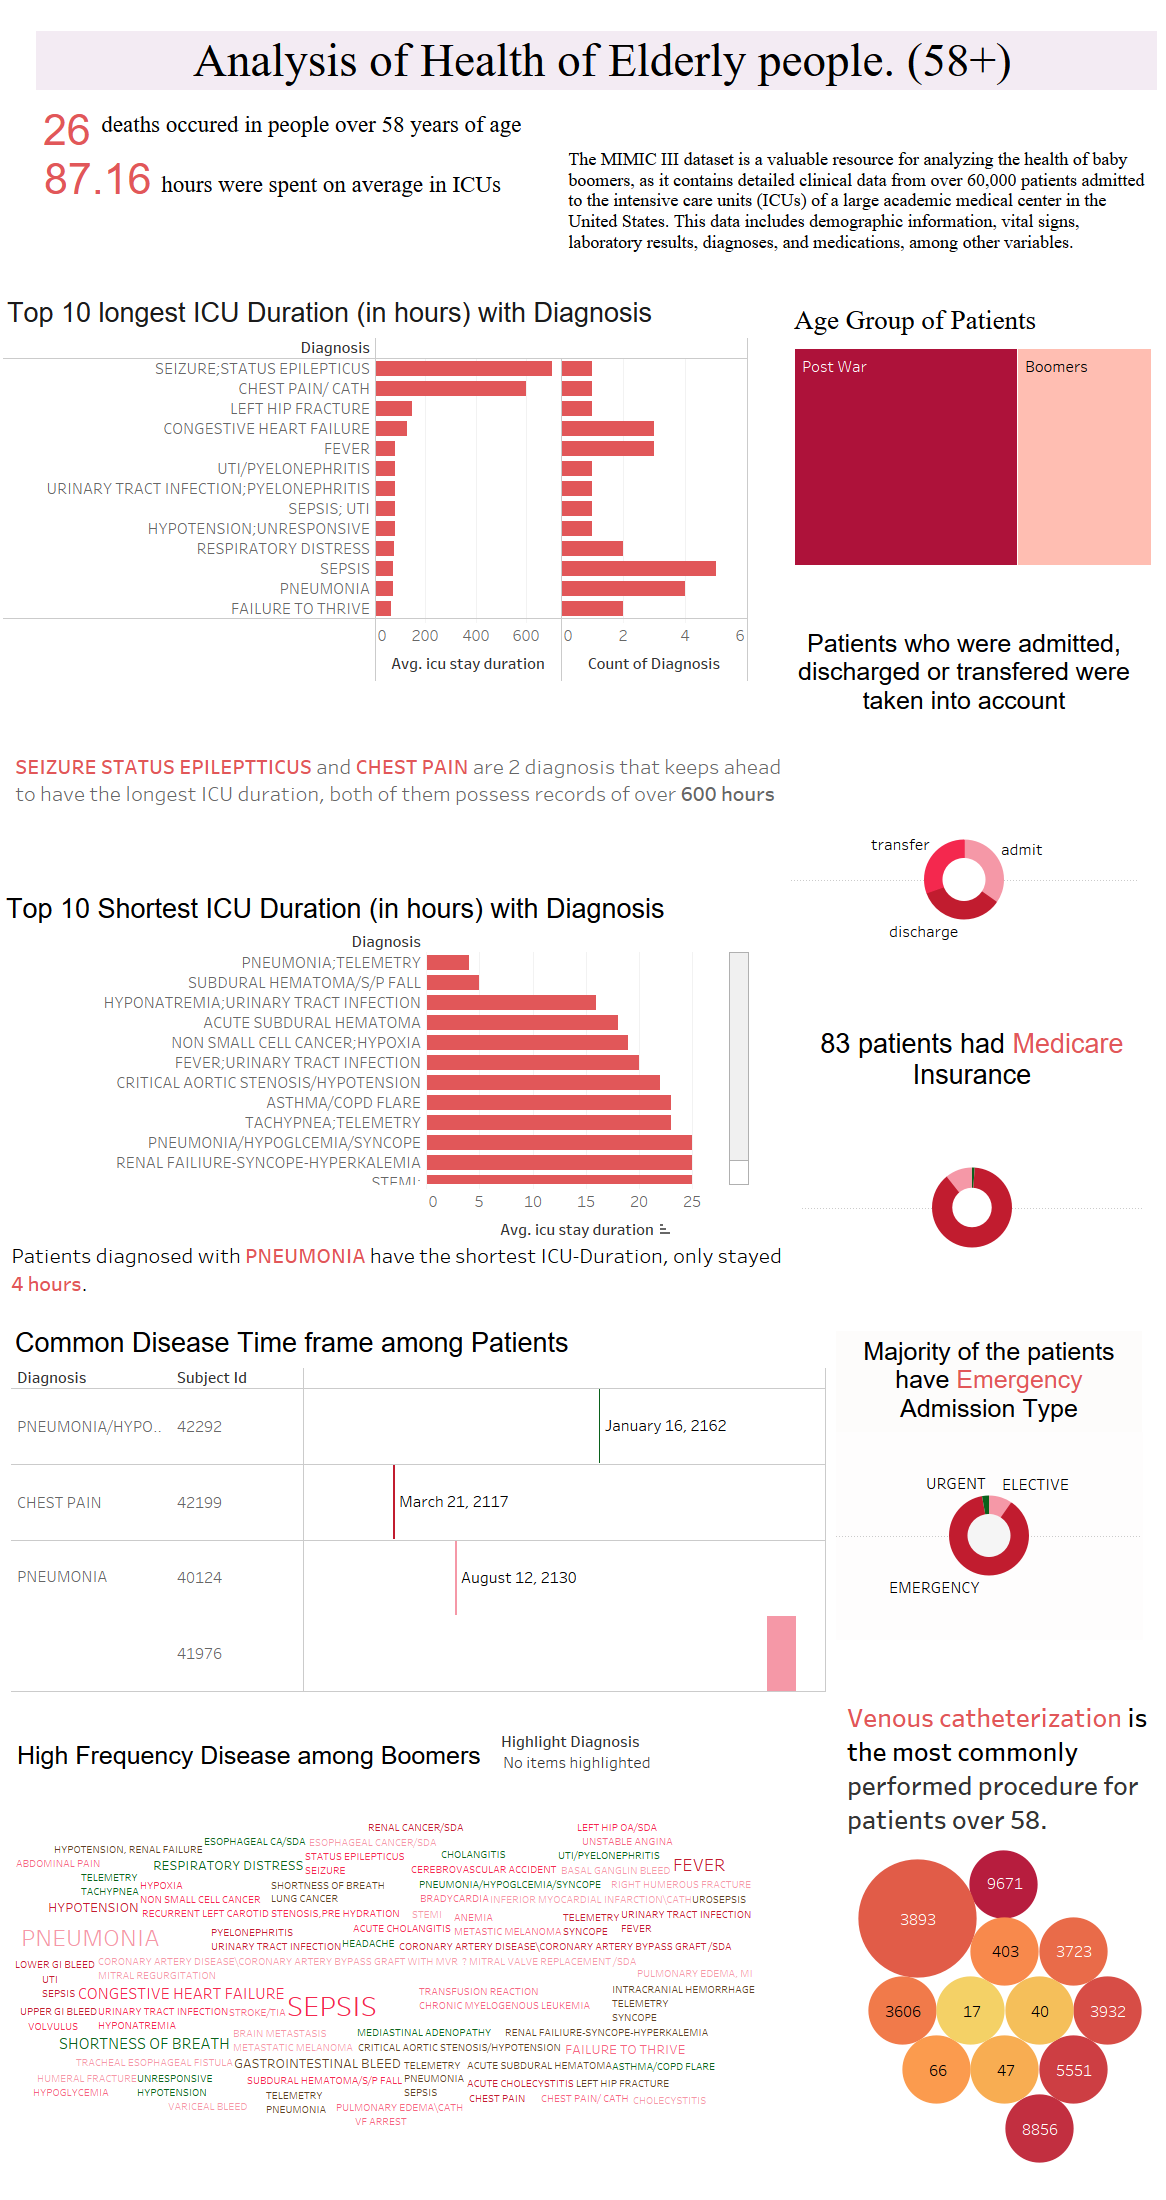

Layout of this report page (visuals, bound fields, positions):
{"tool":"tableau","page":{"name":"Dashboard health (2)","canvas":[1166,2200],"ordinal":0},"visuals":[{"type":"title","box":[36,31,1121,59]},{"type":"worksheet","title":"No of deaths - Boomers and Post War","mark":"Automatic","box":[35,92,101,60]},{"type":"text","box":[98,92,449,65]},{"type":"text","box":[565,99,590,226]},{"type":"text","box":[158,143,422,83]},{"type":"worksheet","title":"avg icu duration","mark":"Automatic","box":[36,163,145,67]},{"type":"worksheet","title":"Age group","mark":"Automatic","box":[790,264,365,397]},{"type":"worksheet","title":"icu duration","mark":"Automatic","rows":["diagnosis"],"cols":["Calculation_2464313426235645973","diagnosis"],"box":[3,292,746,457]},{"type":"worksheet","title":"even type","mark":"Pie","rows":["Calculation_2464313426227335185","Calculation_2464313426227343379"],"box":[791,623,346,412]},{"type":"text","box":[12,702,773,156]},{"type":"worksheet","title":"icu duration (2)","mark":"Automatic","rows":["diagnosis"],"cols":["Calculation_2464313426235645973"],"box":[7,847,747,359]},{"type":"worksheet","title":"Insurance chart","mark":"Pie","rows":["Calculation_5887682462809845761","Calculation_5887682462809858051"],"box":[802,1023,340,291]},{"type":"text","box":[8,1218,762,95]},{"type":"worksheet","title":"disease duration","mark":"Automatic","rows":["diagnosis","subject_id"],"cols":["admittime"],"box":[11,1322,815,370]},{"type":"worksheet","title":"admission type","mark":"Pie","rows":["Calculation_2464313426226331661","Calculation_2464313426226352143"],"box":[836,1331,306,308]},{"type":"blank","box":[30,1716,735,452]},{"type":"highlighter","title":"Wordcloud","param":"[federated.1jwbptp1grb7z7177ztab1okgi7t].[attr:diagnosis:nk]","box":[501,1730,250,76]},{"type":"worksheet","title":"Wordcloud","mark":"Text","box":[13,1735,743,426]}]}

Visuals, with their boxes in screenshot pixels (x1, y1, x2, y2), scaled from the page's 1166x2200 canvas onto the 1166x2200 screenshot:
title: bbox(36, 31, 1157, 90)
"No of deaths - Boomers and Post War" worksheet: bbox(35, 92, 136, 152)
text: bbox(98, 92, 547, 157)
text: bbox(565, 99, 1155, 325)
text: bbox(158, 143, 580, 226)
"avg icu duration" worksheet: bbox(36, 163, 181, 230)
"Age group" worksheet: bbox(790, 264, 1155, 661)
"icu duration" worksheet: bbox(3, 292, 749, 749)
"even type" worksheet (Pie marks): bbox(791, 623, 1137, 1035)
text: bbox(12, 702, 785, 858)
"icu duration (2)" worksheet: bbox(7, 847, 754, 1206)
"Insurance chart" worksheet (Pie marks): bbox(802, 1023, 1142, 1314)
text: bbox(8, 1218, 770, 1313)
"disease duration" worksheet: bbox(11, 1322, 826, 1692)
"admission type" worksheet (Pie marks): bbox(836, 1331, 1142, 1639)
blank: bbox(30, 1716, 765, 2168)
"Wordcloud" highlighter: bbox(501, 1730, 751, 1806)
"Wordcloud" worksheet (Text marks): bbox(13, 1735, 756, 2161)
